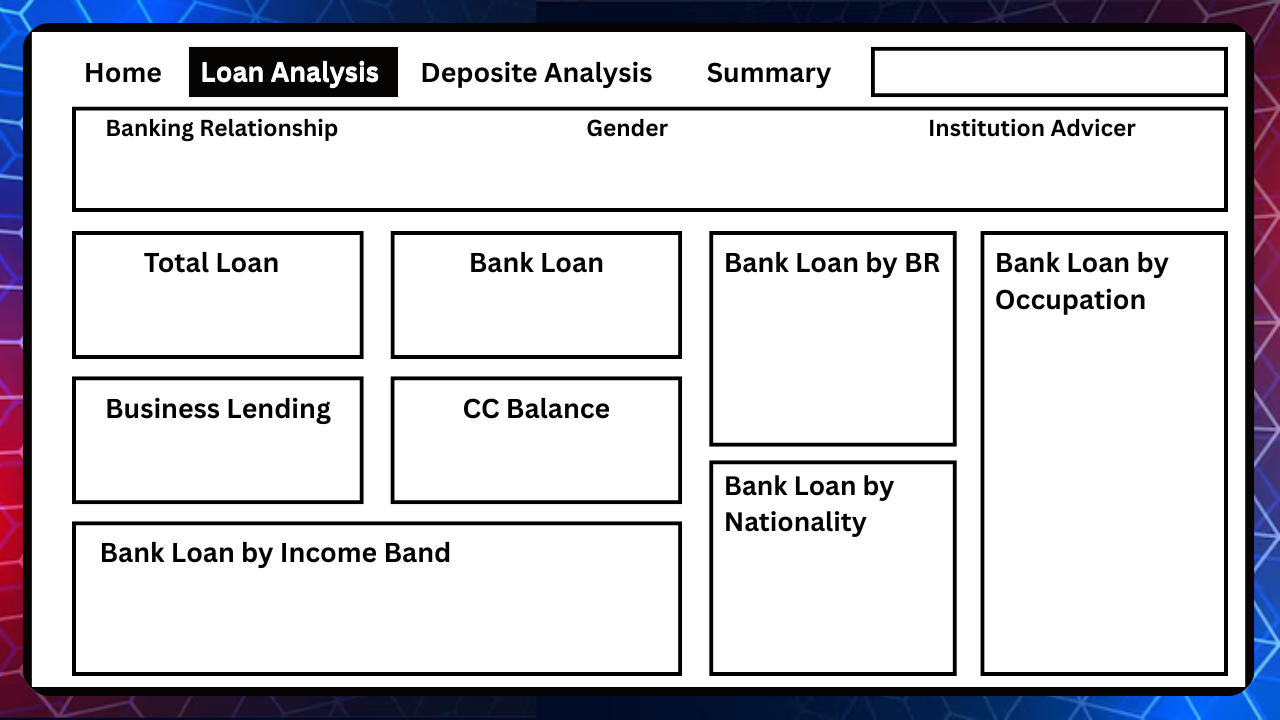

What the dashboard file says about the page in this screenshot:
{"tool":"powerbi","page":{"name":"Loan Analyse","canvas":[1280,720],"ordinal":2},"visuals":[{"type":"slicer","fields":{"Values":["banking_case customer.Year of Joined"]},"box":[875.2,45.4,352.8,48.7],"z":0},{"type":"actionButton","box":[67.2,50.4,100.8,40.3],"z":1},{"type":"actionButton","box":[414.7,44.6,243.4,49],"z":2},{"type":"actionButton","box":[697,44.6,142.6,49],"z":3},{"type":"card","fields":{"Values":["banking_case customer.Total Loan"]},"box":[108,276.5,193,66.2],"z":4},{"type":"card","fields":{"Values":["Sum(banking_case customer.Bank Loans)"]},"box":[424.8,276.5,193,66.2],"z":5},{"type":"card","fields":{"Values":["Sum(banking_case customer.Business Lending)"]},"box":[108,421.9,193,66.2],"z":6},{"type":"card","fields":{"Values":["Sum(banking_case customer.Credit Card Balance)"]},"box":[424.8,421.9,193,66.2],"z":7},{"type":"donutChart","fields":{"Category":["banking_case customer.Income Band"],"Y":["Sum(banking_case customer.Bank Loans)"]},"box":[79.2,555.8,591.8,103.7],"z":8},{"type":"clusteredColumnChart","fields":{"Category":["banking_case customer.BRId"],"Y":["Sum(banking_case customer.Bank Loans)"]},"box":[712.8,276.5,237.6,161.3],"z":9},{"type":"clusteredColumnChart","fields":{"Category":["banking_case customer.Nationality"],"Y":["Sum(banking_case customer.Bank Loans)"]},"box":[712.3,529.2,238.5,129.2],"z":10},{"type":"clusteredColumnChart","fields":{"Category":["banking_case customer.Occupation"],"Y":["Sum(banking_case customer.Bank Loans)"]},"box":[990.8,309.2,220,349.2],"z":11},{"type":"slicer","fields":{"Values":["banking_case customer.BRId"]},"box":[78.5,138.5,432.3,56.9],"z":12},{"type":"slicer","fields":{"Values":["banking_case customer.GenderId"]},"box":[524.6,138.5,315.4,56.9],"z":13},{"type":"slicer","fields":{"Values":["banking_case customer.IAId"]},"box":[856.9,138.5,353.8,56.9],"z":14}]}

Visuals, with their boxes in screenshot pixels (x1, y1, x2, y2), scaled from the page's 1280x720 canvas onto the 1280x720 screenshot:
slicer - banking_case customer.Year of Joined: locate(875, 45, 1228, 94)
actionButton: locate(67, 50, 168, 91)
actionButton: locate(415, 45, 658, 94)
actionButton: locate(697, 45, 840, 94)
card - banking_case customer.Total Loan: locate(108, 276, 301, 343)
card - Sum(banking_case customer.Bank Loans): locate(425, 276, 618, 343)
card - Sum(banking_case customer.Business Lending): locate(108, 422, 301, 488)
card - Sum(banking_case customer.Credit Card Balance): locate(425, 422, 618, 488)
donutChart - banking_case customer.Income Band x Sum(banking_case customer.Bank Loans): locate(79, 556, 671, 660)
clusteredColumnChart - banking_case customer.BRId x Sum(banking_case customer.Bank Loans): locate(713, 276, 950, 438)
clusteredColumnChart - banking_case customer.Nationality x Sum(banking_case customer.Bank Loans): locate(712, 529, 951, 658)
clusteredColumnChart - banking_case customer.Occupation x Sum(banking_case customer.Bank Loans): locate(991, 309, 1211, 658)
slicer - banking_case customer.BRId: locate(78, 138, 511, 195)
slicer - banking_case customer.GenderId: locate(525, 138, 840, 195)
slicer - banking_case customer.IAId: locate(857, 138, 1211, 195)
